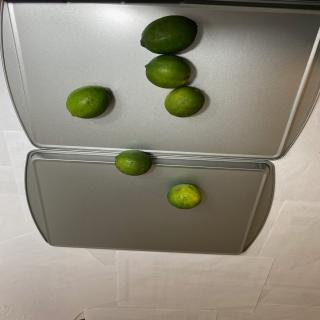Apple: (164, 86, 205, 117)
Lemon: (140, 15, 198, 54), (144, 54, 192, 89), (66, 85, 110, 119), (115, 149, 152, 176), (167, 183, 202, 210)
